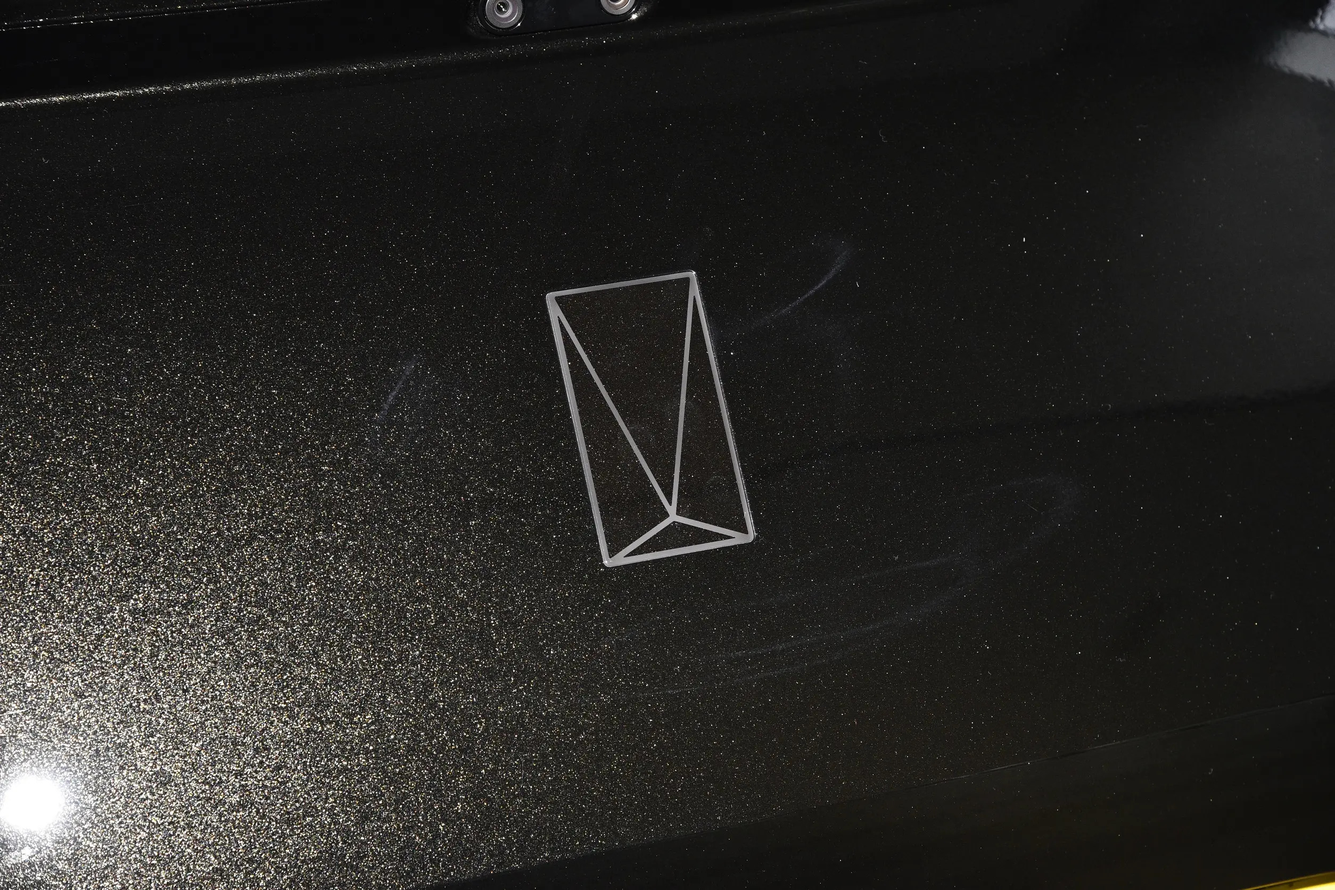AVATR: (546, 271, 755, 567)
